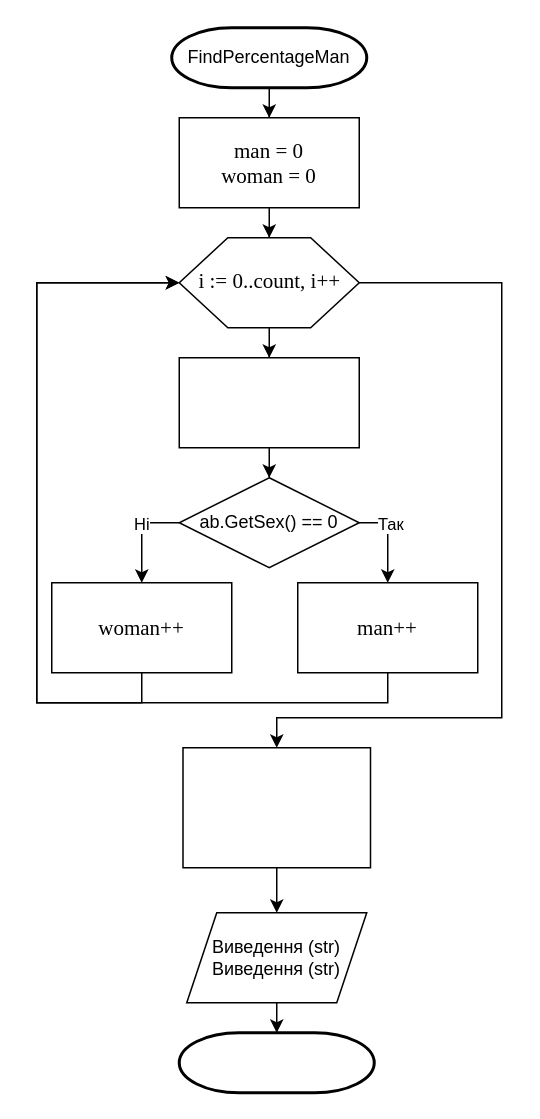
Image size: 540x1119. Some labels were removed from this diagram. The shapes that lost their labels are listed below. From the top down, each one's centre as x and y in pixels, then its label:
(268,402): Basic& ab(GetBird(i))
(276,807): sum = man + woman fman = (float)man/sum*100 fwoman = (float)woman/sum *100
(276,1062): Повернення fman
